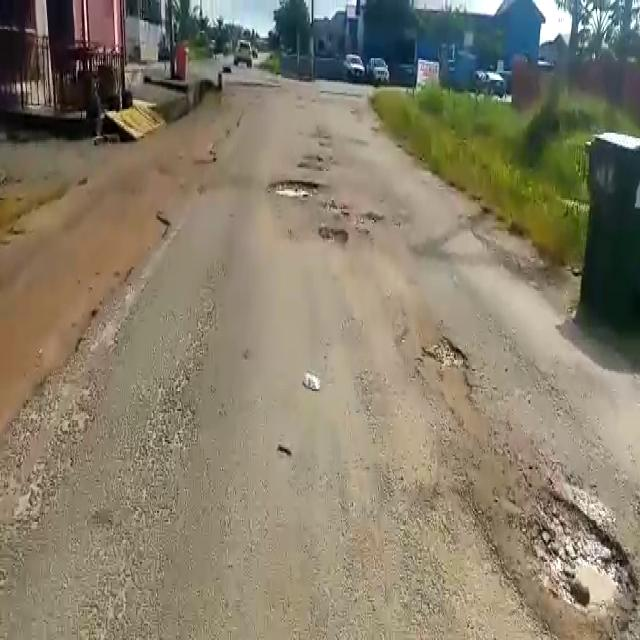Pothole: (514, 470, 640, 639), (413, 332, 492, 445), (267, 175, 323, 199), (314, 224, 350, 243)
